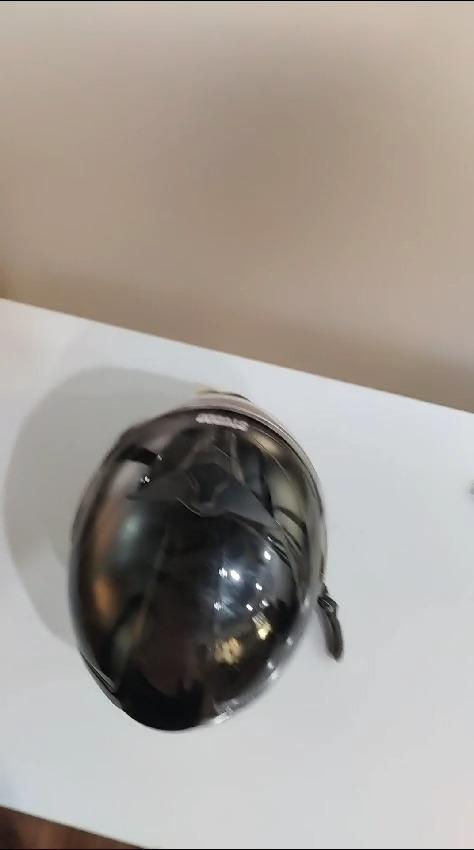Helmet: (77, 409, 317, 747)
